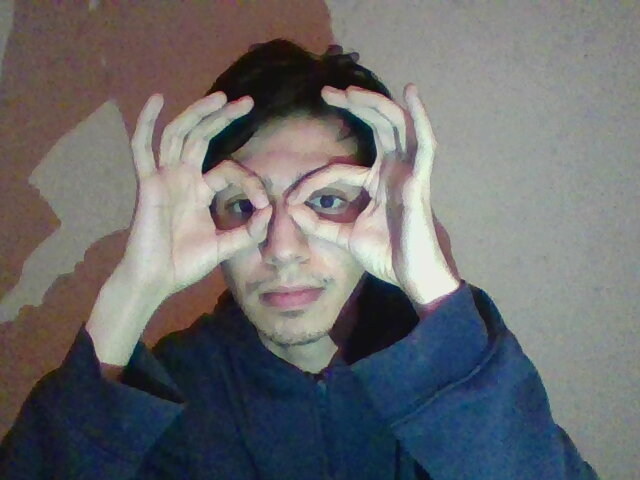buho: (118, 78, 474, 312)
